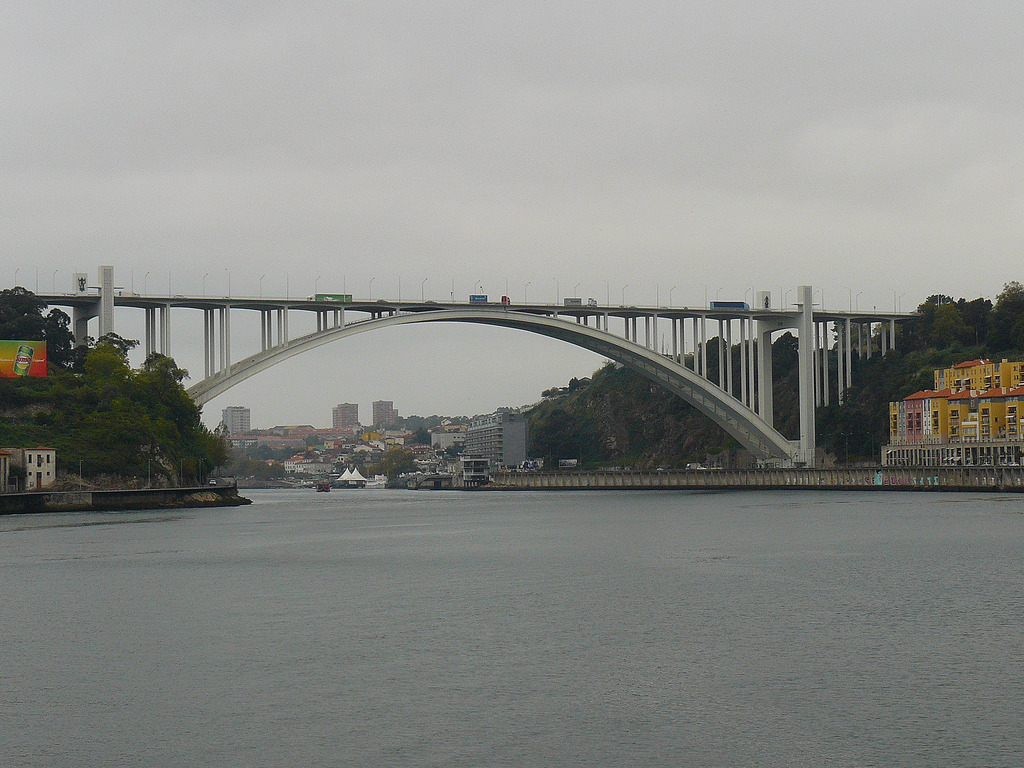arrabida: (35, 261, 913, 472)
